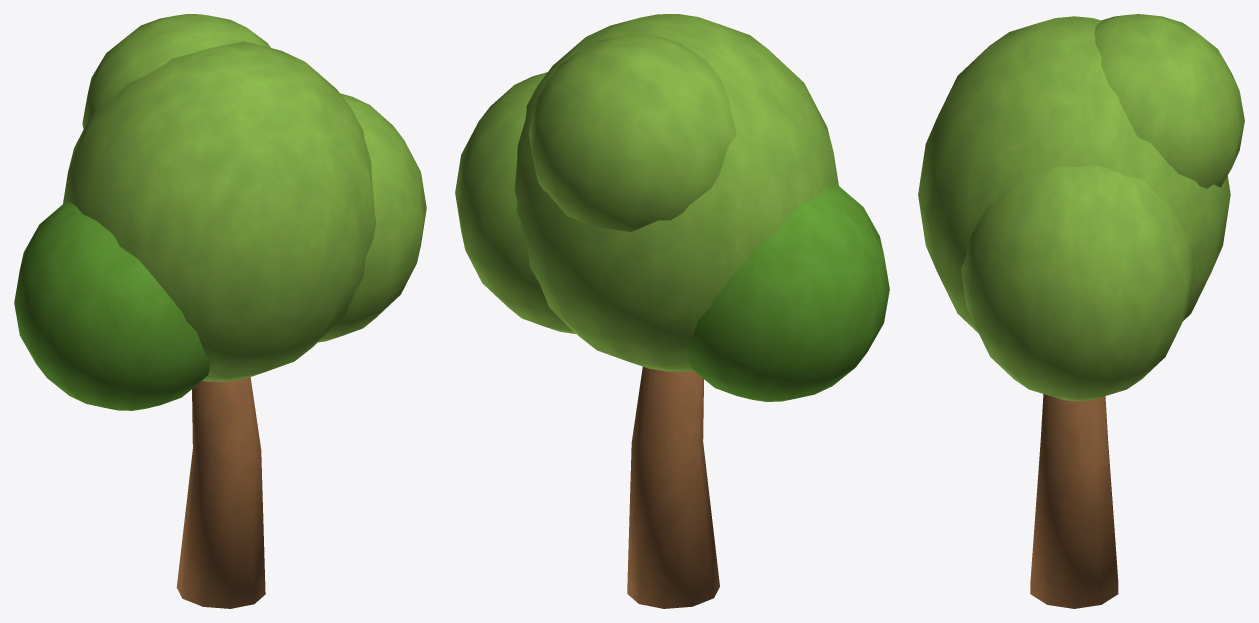
The model's file is prop_tree.glb.
3 views of the same model, side by side, from view 1: azimuth 30°, elevation 25°; view 2: azimuth 150°, elevation 25°; view 3: azimuth 270°, elevation 25° (orthographic). The views are drawn at different scales.
Parts seen in each view (by area): view 1: prop_tree; view 2: prop_tree; view 3: prop_tree.
Part boxes in pixels (bbox=[...]): prop_tree: bbox=[14, 14, 426, 608]; prop_tree: bbox=[455, 14, 889, 608]; prop_tree: bbox=[918, 14, 1244, 608].
Size of the model in its own units: 1.3 by 1.76 by 0.92.
Materials: 1 (1 with a texture image).
